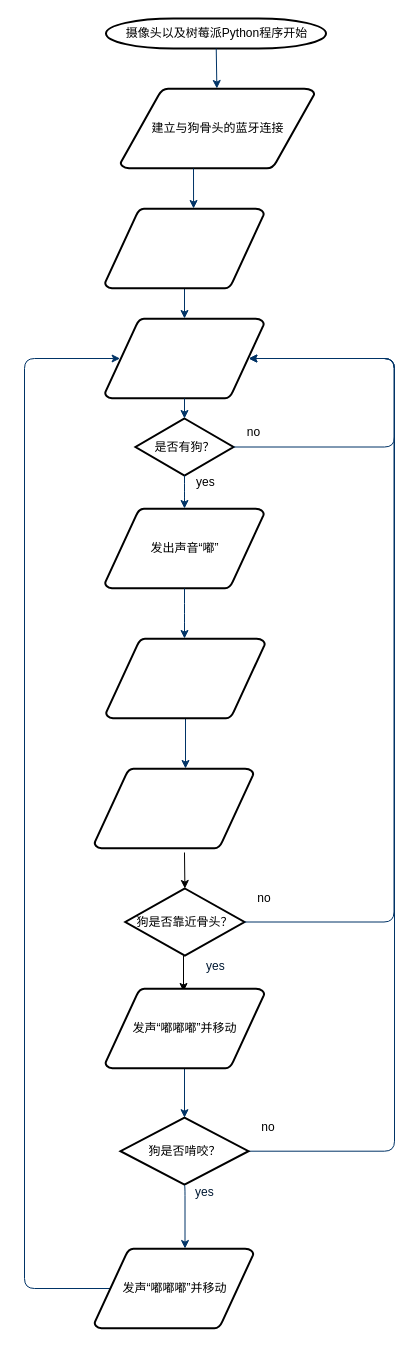
The diagram is 420 pixels wide and 1346 high, and some of its shapes have lost their labels. The centre of each missing label's shape, as x and y in pixels:
得到宠物位置: the point at 185,678
得到骨头位置: the point at 173,808
打开摄像头: the point at 184,248
读摄像头一帧图像: the point at 184,358
